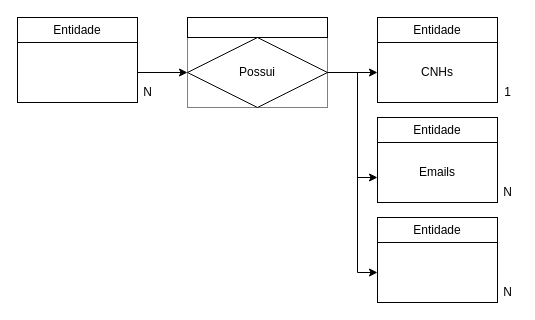
Some shapes in this 535 by 320 pixel diagram are drawn without their labels. The shapes that lost their labels are listed below. From the top down, each one's centre as x and y in pixels, then its label:
At point 257,27: "Relacionamento".
At point 77,72: "Pessoas".
At point 437,272: "Telefones".
